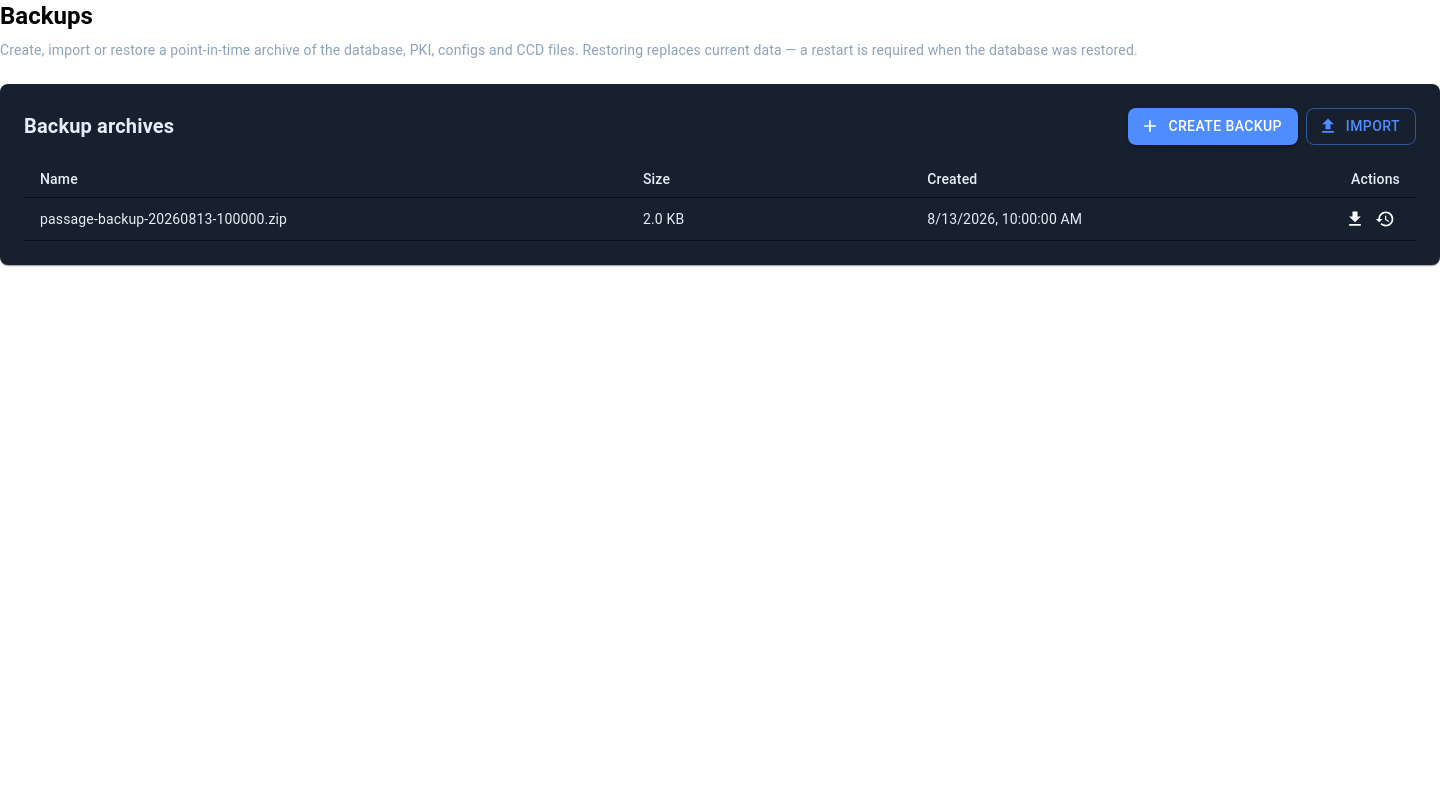
Test: BackupsPage › restores after confirmation
The width and height of the screenshot is (1440, 810).
Expected: the text "passage-backup-20260813-100000.zip" is shown, [24,197,627,240]
Click the button named "Restore passage-backup-20260813-100000.zip".
click(1385, 218)  # box [1370,204,1400,234]
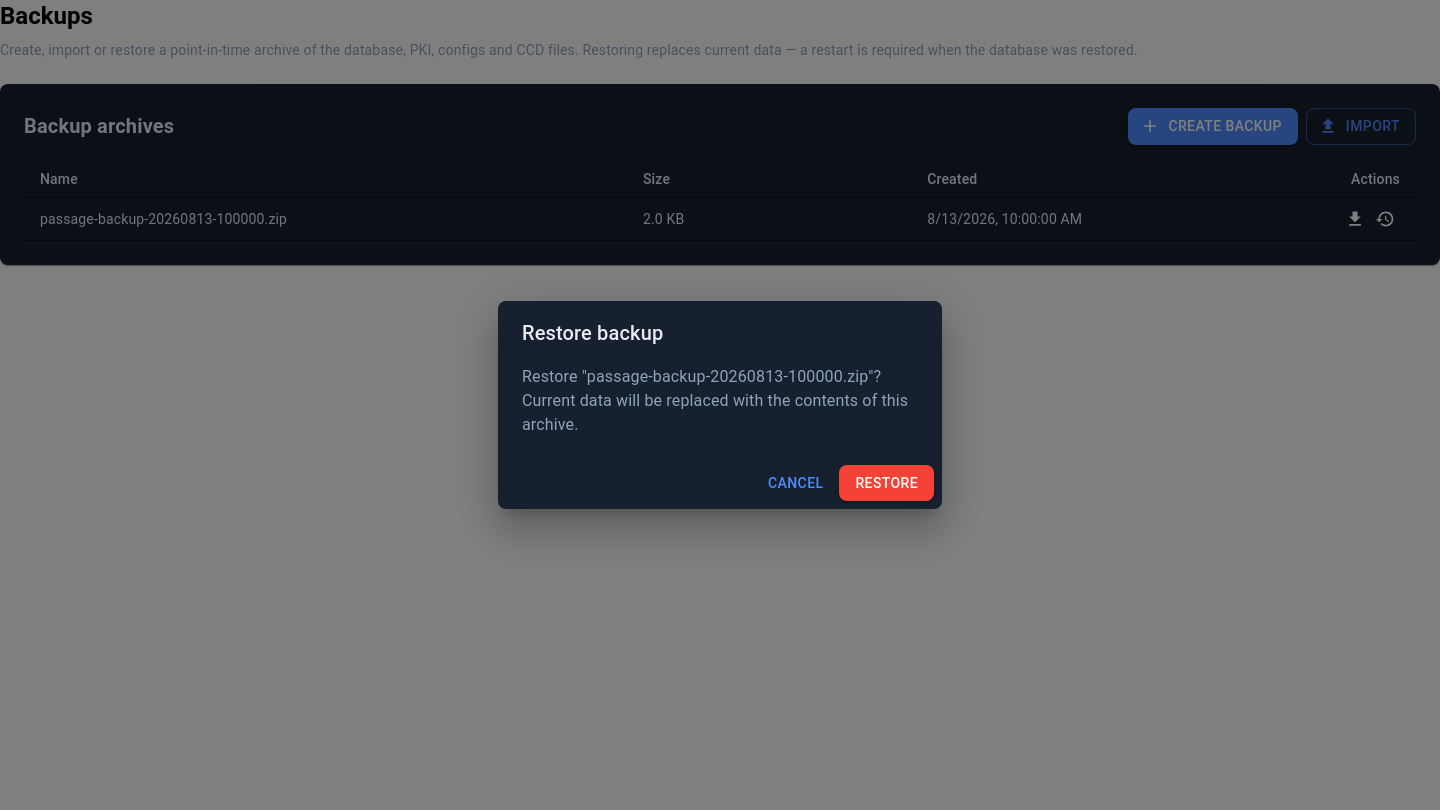
Click the button "Restore".
click(887, 483)  # box [839,465,934,501]
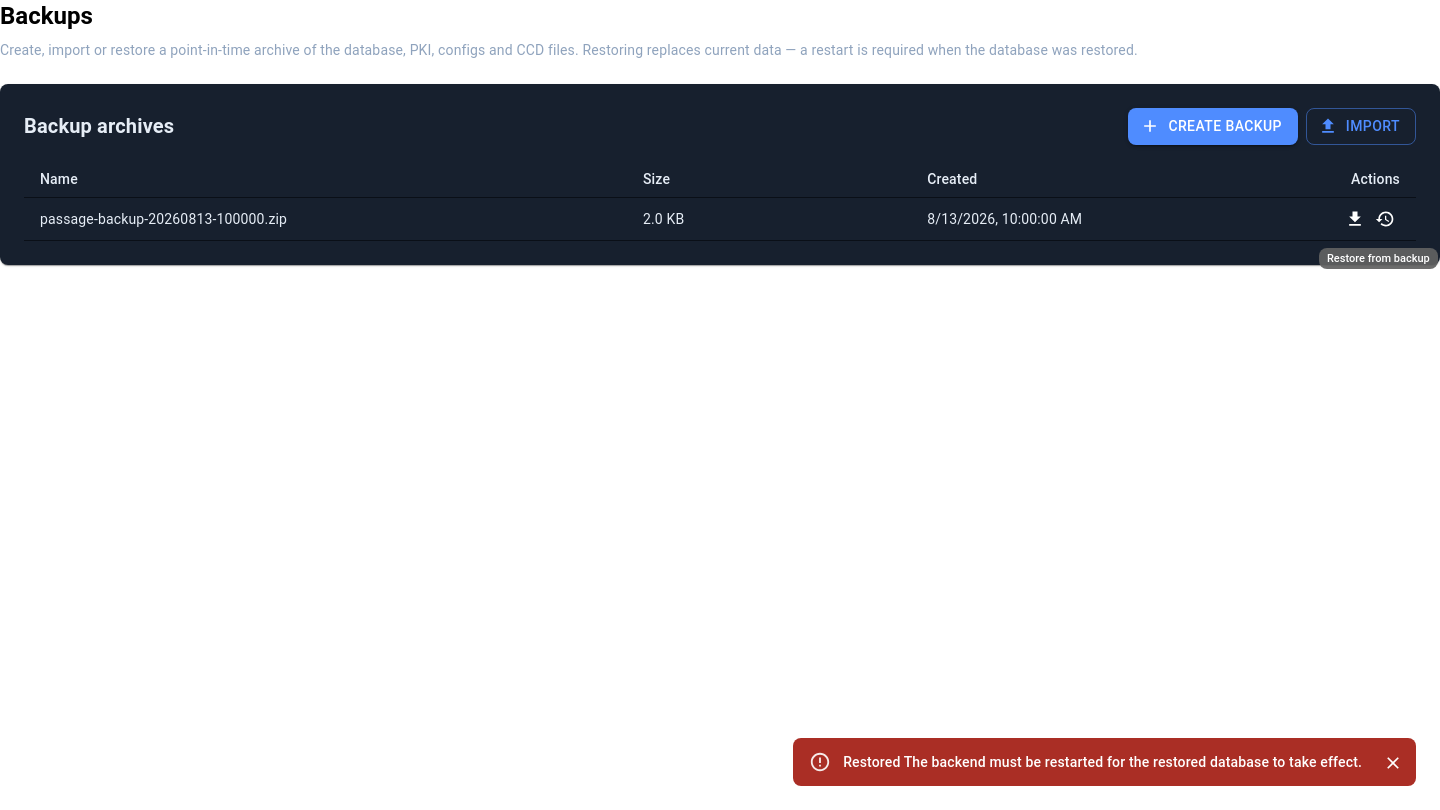
Result: the text "must be restarted" is shown at [843,754,1362,770]
